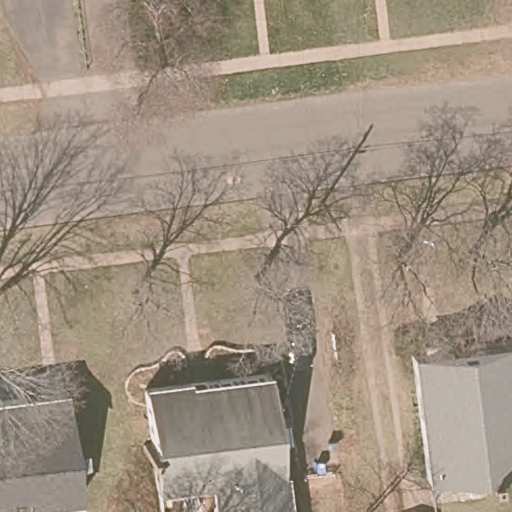DT: (311, 200, 345, 232)
